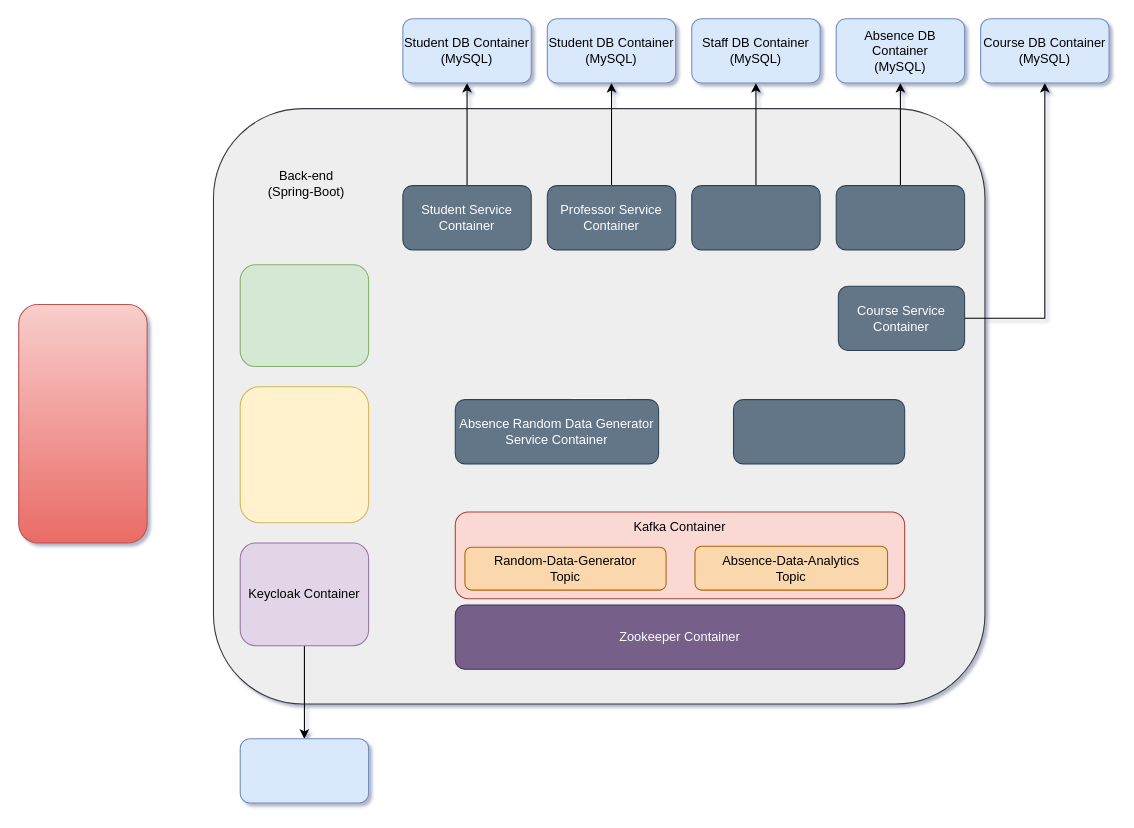
Image size: 1134x828. Some labels were removed from this diagram. The shapes that lost their labels are listed below. From the top down, each one's centre as x and y in pixels, then its label:
At [755,217]: "Staff Service Container".
At [900,217]: "Absence Service Container".
At [304,315]: "Eureka Discovery Server Container".
At [82,423]: "Front-end (Angular)".
At [818,431]: "Data Analytics Service Container".
At [304,454]: "Gateway Container".
At [304,770]: "Keycloak DB Container (Postgres)".
